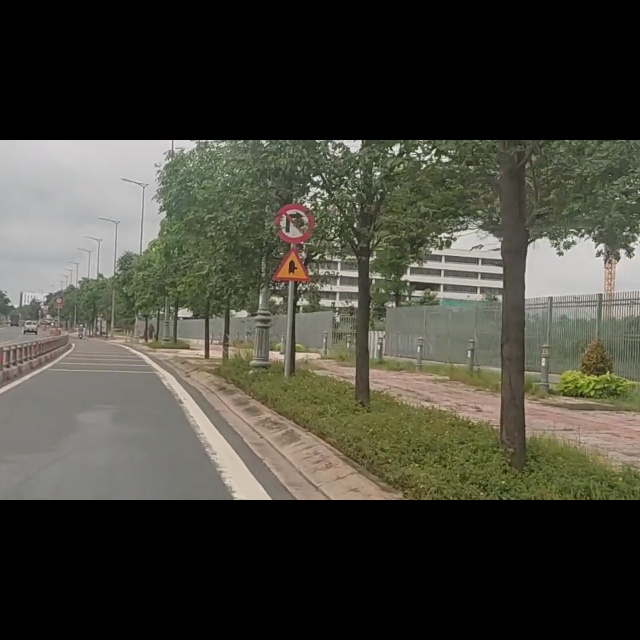bien_nguy_hiem: (275, 110, 315, 185), (271, 188, 314, 256)
